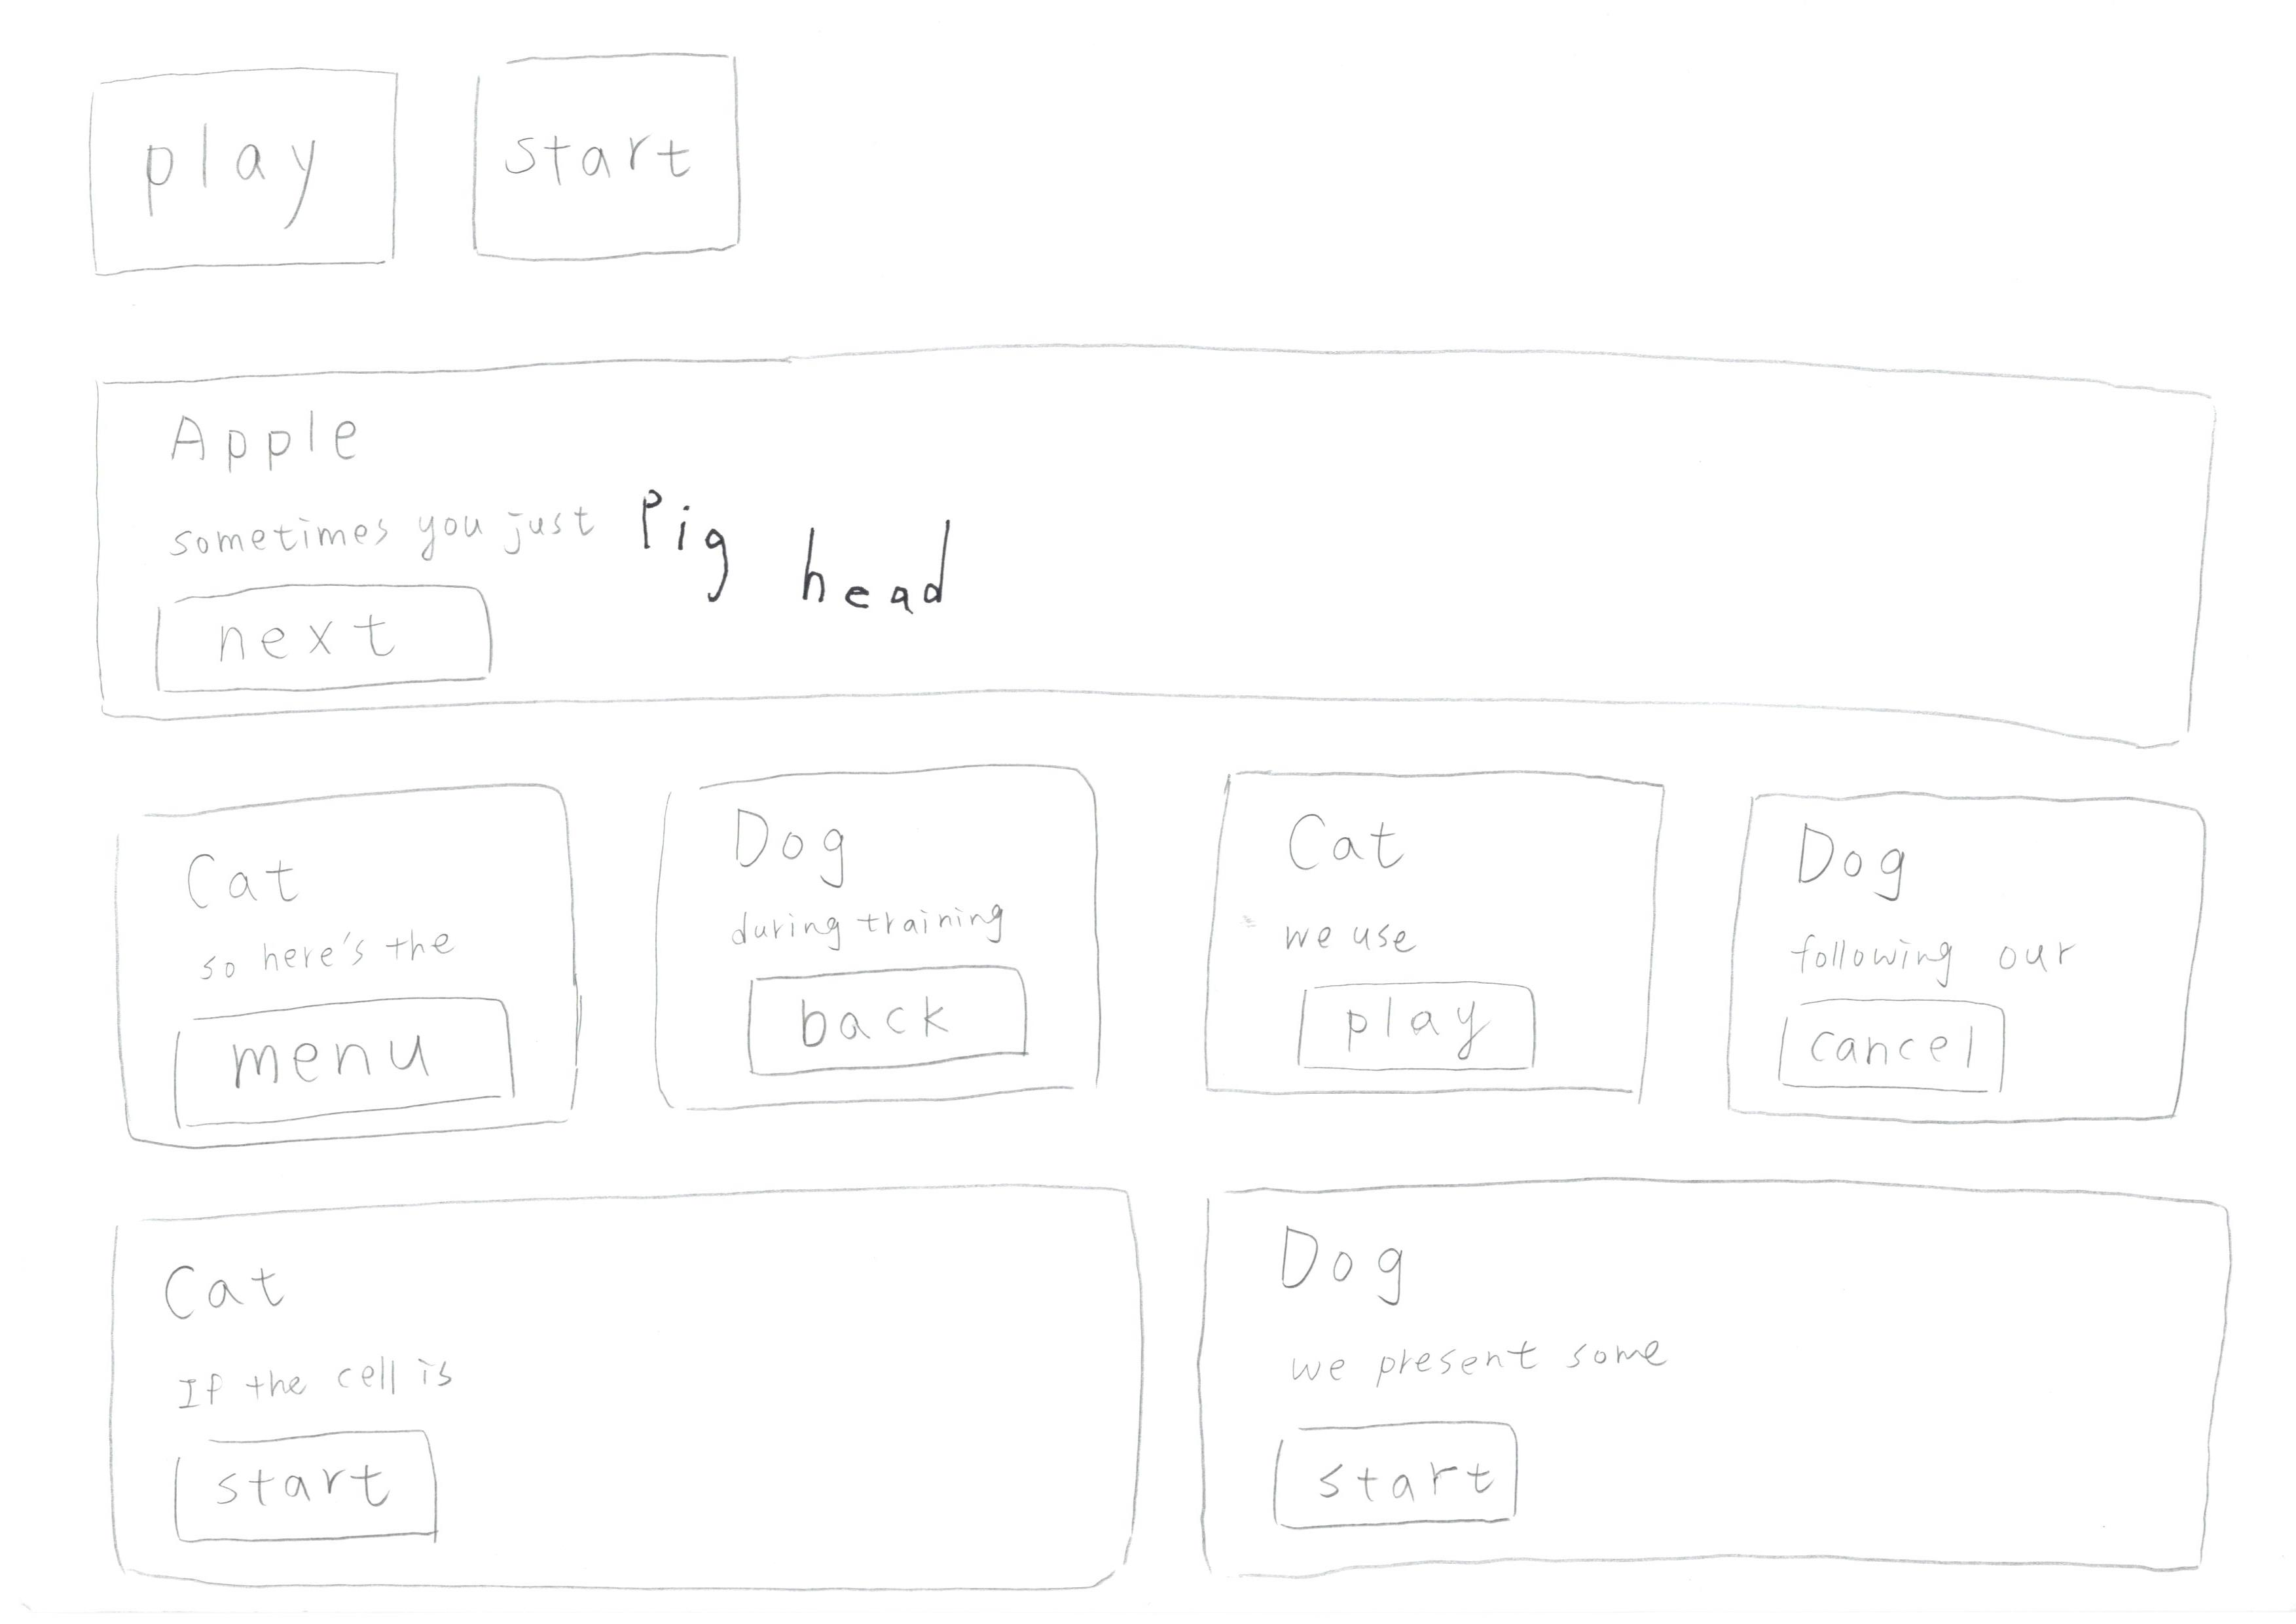back: (712, 951, 1057, 1083)
cancel: (1765, 982, 2018, 1109)
double: (63, 1158, 1174, 1624), (1180, 1144, 2296, 1606)
menu: (155, 986, 538, 1134)
next: (137, 575, 538, 698)
play: (72, 58, 429, 281), (1289, 958, 1556, 1076)
quadruple: (77, 756, 599, 1167), (622, 740, 1144, 1151), (1173, 733, 1695, 1144), (1682, 747, 2205, 1158)
row: (49, 315, 2261, 729), (63, 1181, 2275, 1596), (49, 752, 2261, 1165), (44, 33, 2212, 295)
single: (67, 359, 2222, 747)
small-title: (153, 395, 420, 487), (712, 791, 897, 914), (1229, 1202, 1419, 1306), (174, 826, 362, 924), (1788, 819, 1960, 902), (1275, 810, 1445, 886), (144, 1265, 306, 1334)
start: (450, 33, 759, 278), (139, 1418, 519, 1568), (1250, 1406, 1552, 1533)
text: (155, 492, 962, 576), (167, 1322, 513, 1413), (1301, 1325, 1709, 1401), (726, 882, 1041, 954), (195, 912, 468, 974), (1806, 921, 2104, 972), (1289, 910, 1433, 967)
